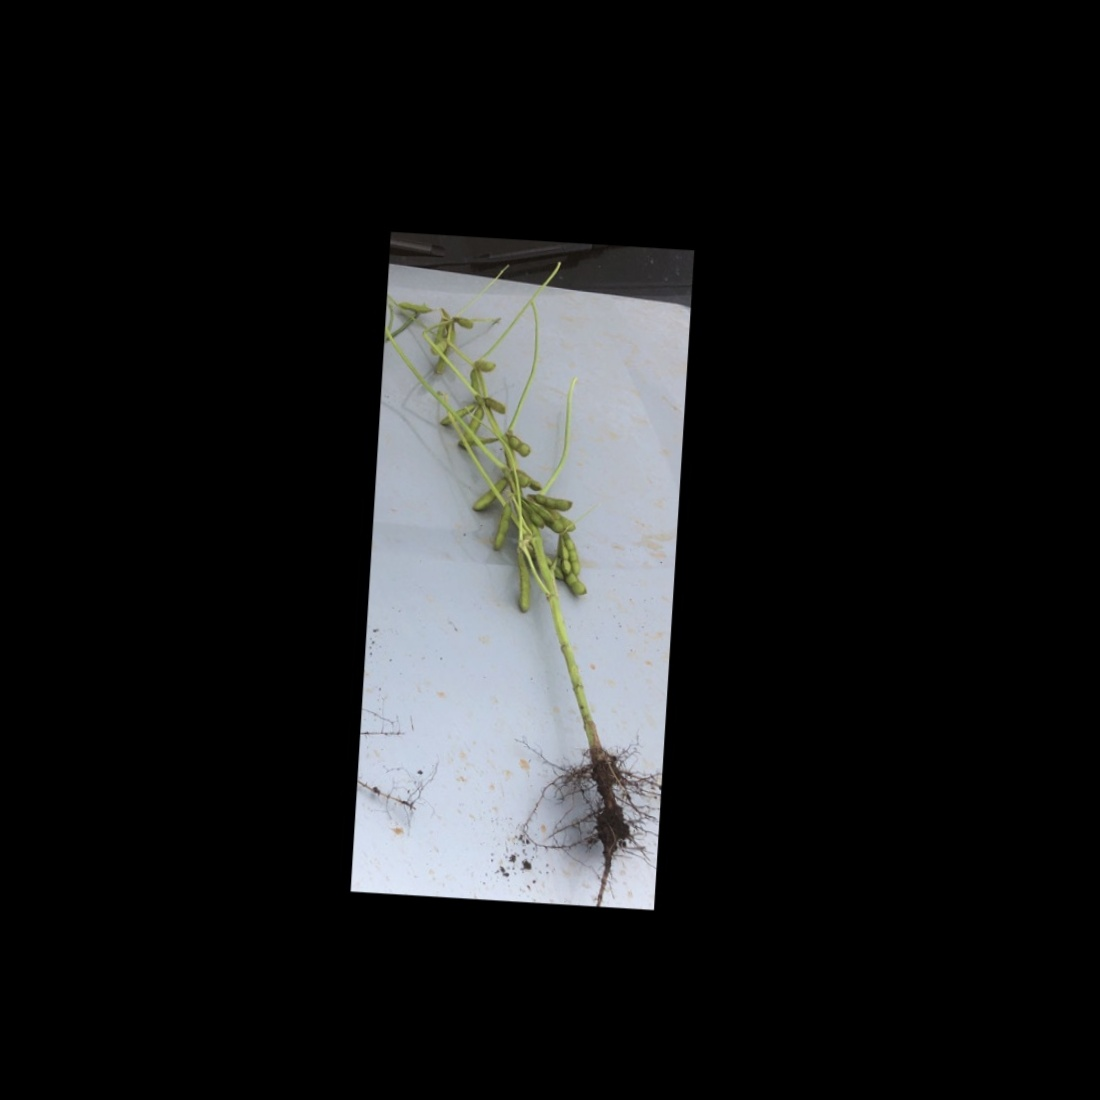pod: (467, 470, 510, 518), (490, 499, 518, 556), (509, 549, 532, 618), (437, 398, 478, 429), (525, 488, 574, 512), (391, 296, 436, 320), (503, 430, 537, 461), (478, 393, 509, 416), (472, 358, 500, 374)
soy: (357, 273, 677, 880)
